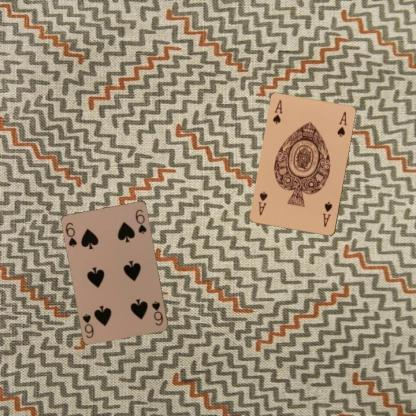6s: (63, 220, 78, 249), (149, 299, 164, 327)
As: (270, 97, 284, 125), (321, 199, 333, 228)
